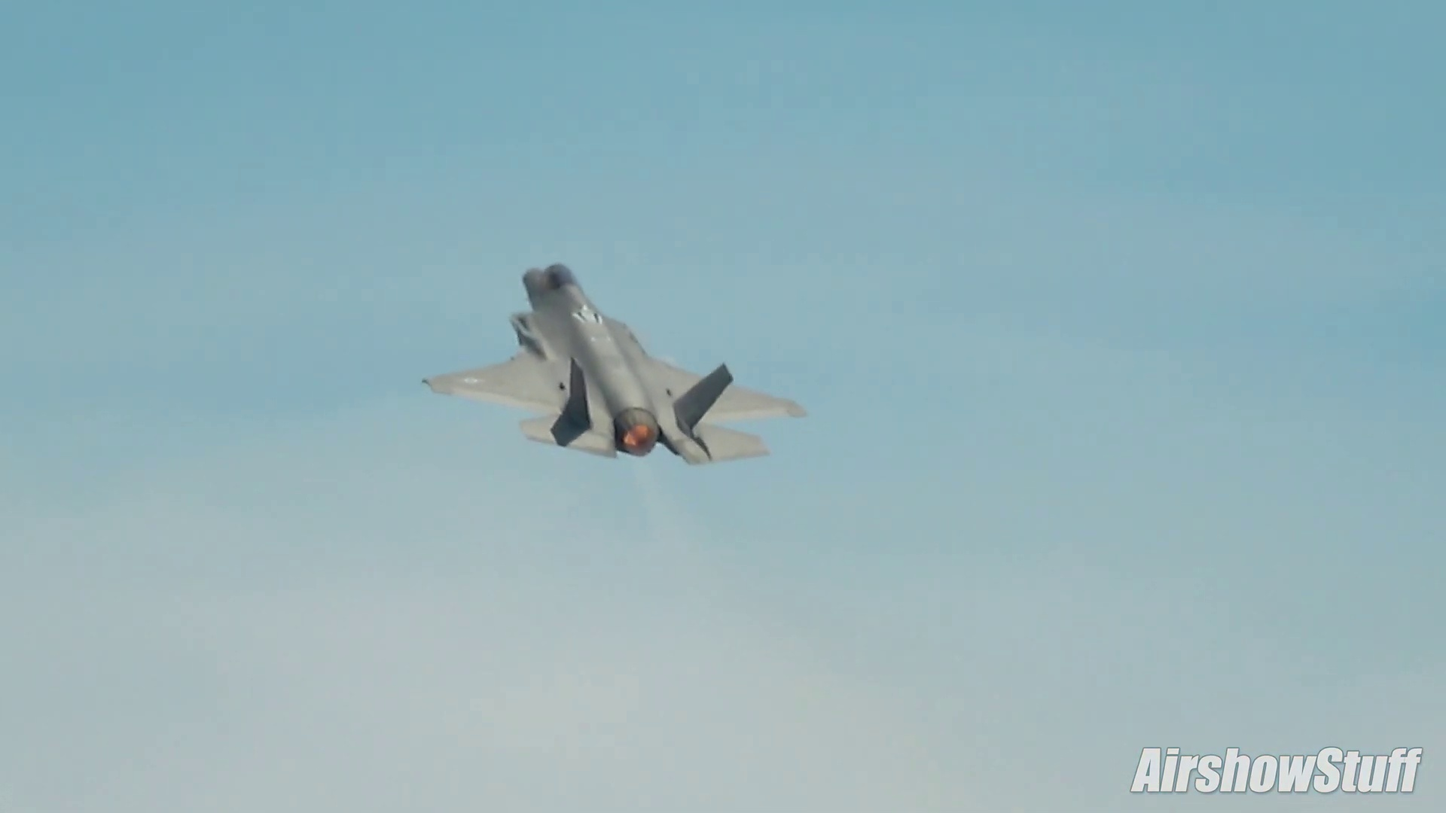F35: (418, 260, 814, 469)
